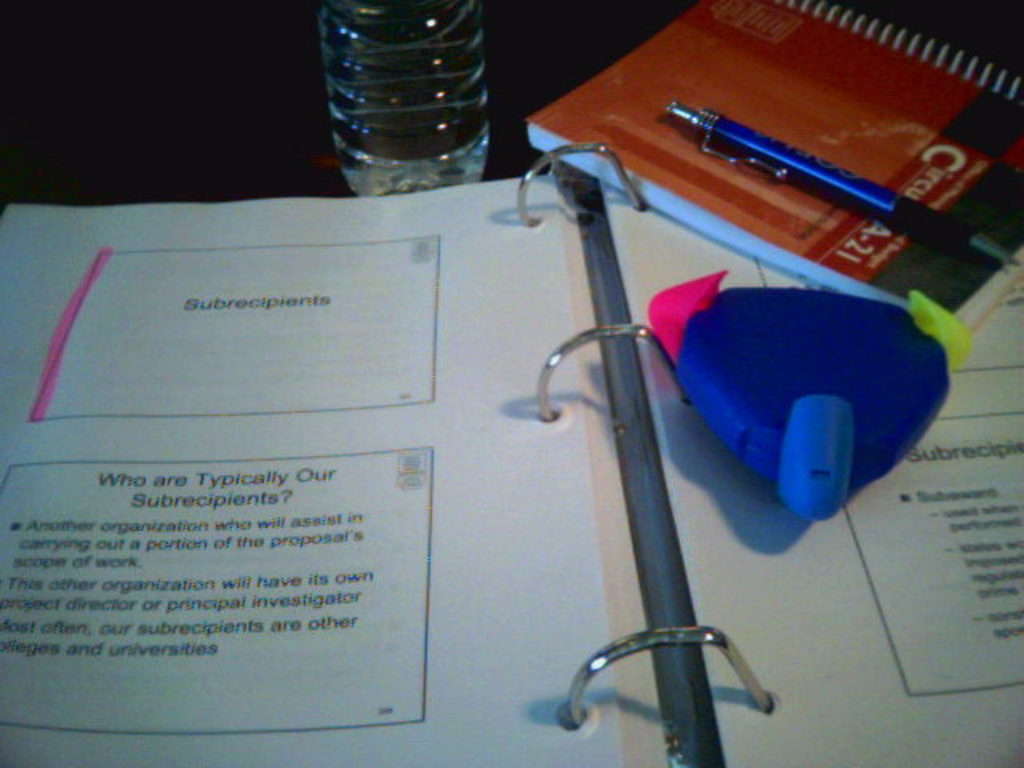Pen: (659, 104, 1022, 277)
